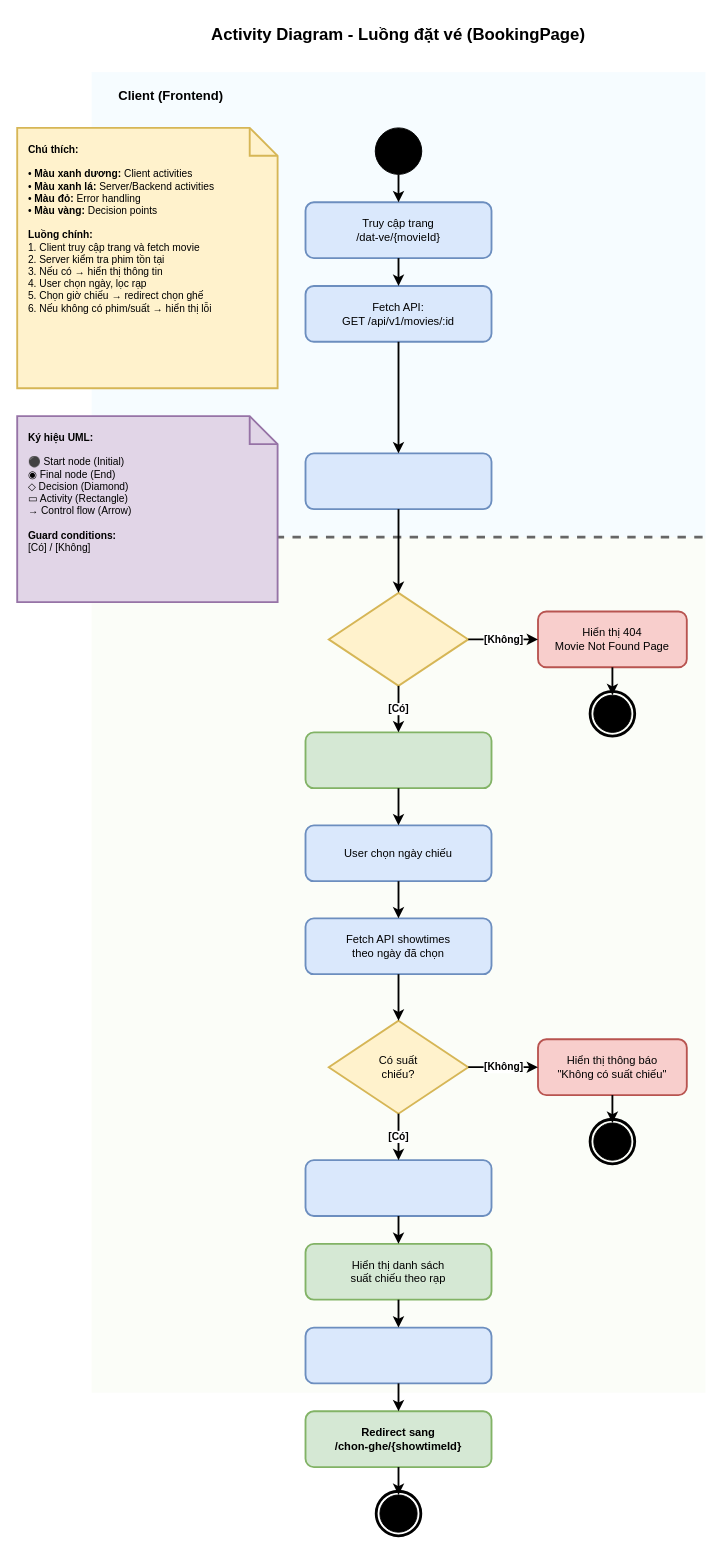
Some shapes in this 724 by 1553 pixel diagram are drawn without their labels. Each missing label, with the centre of its shape:
"Fetch API: Cinemas/Cities/Showtimes" goes at point 398,481.
"Hiển thị thông tin phim (poster, title, rating...)" goes at point 398,760.
"Phim tồn tại?" goes at point 398,638.
"User chọn giờ chiếu (showtimeId)" goes at point 398,1355.
"User lọc khu vực/rạp (optional)" goes at point 398,1187.
